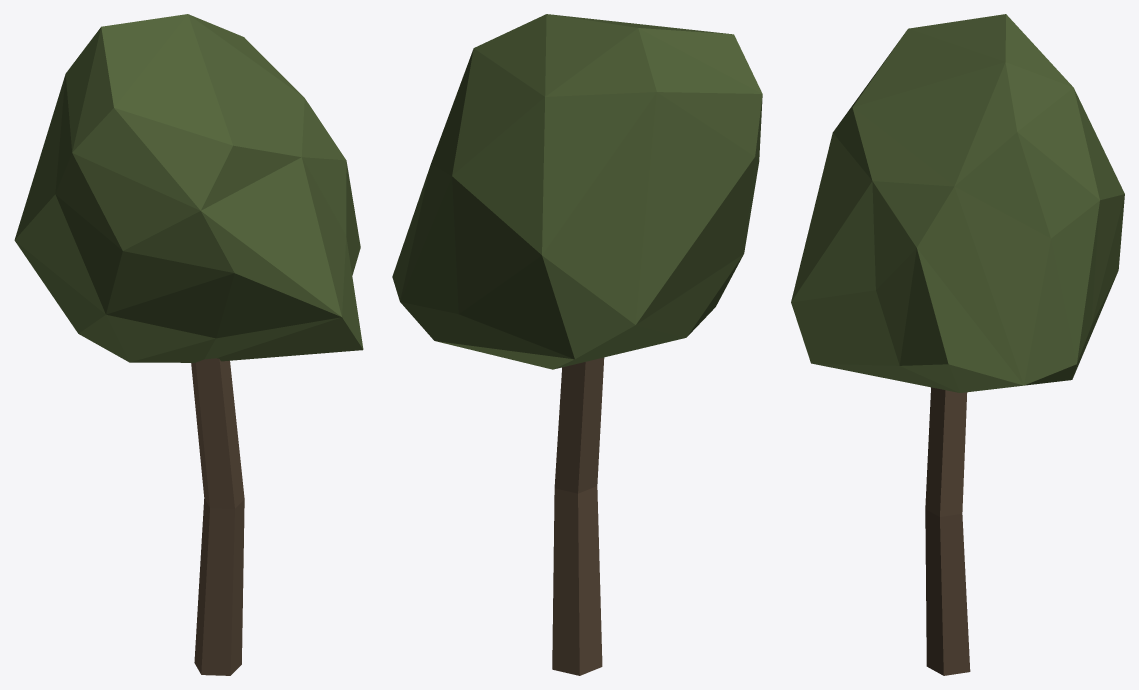
Rendered from SM_Env_Tree_02.fbx.
3 renders of one model, left to right at view 1: azimuth 30°, elevation 25°; view 2: azimuth 150°, elevation 25°; view 3: azimuth 270°, elevation 25°, orthographic. The views are drawn at different scales.
Parts seen in each view (by area): view 1: SM_Env_Tree_02; view 2: SM_Env_Tree_02; view 3: SM_Env_Tree_02.
Boxes of the visible parts, x1=… form: SM_Env_Tree_02: x1=14, y1=14, x2=363, y2=675; SM_Env_Tree_02: x1=392, y1=14, x2=762, y2=675; SM_Env_Tree_02: x1=791, y1=14, x2=1124, y2=675.
Size of the model in its own units: 107 by 214 by 106.
